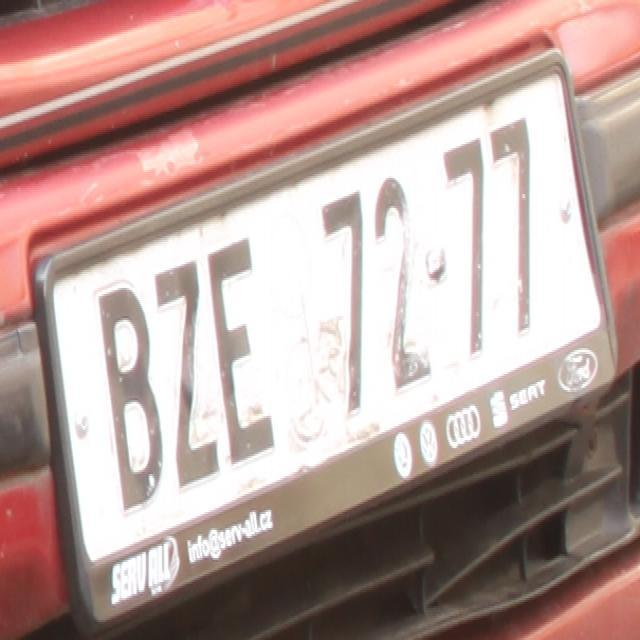2: (372, 176, 431, 388)
7: (488, 116, 542, 344), (320, 186, 372, 420), (446, 136, 486, 358)
B: (98, 284, 164, 510)
E: (205, 238, 274, 466)
Z: (154, 264, 223, 496)
